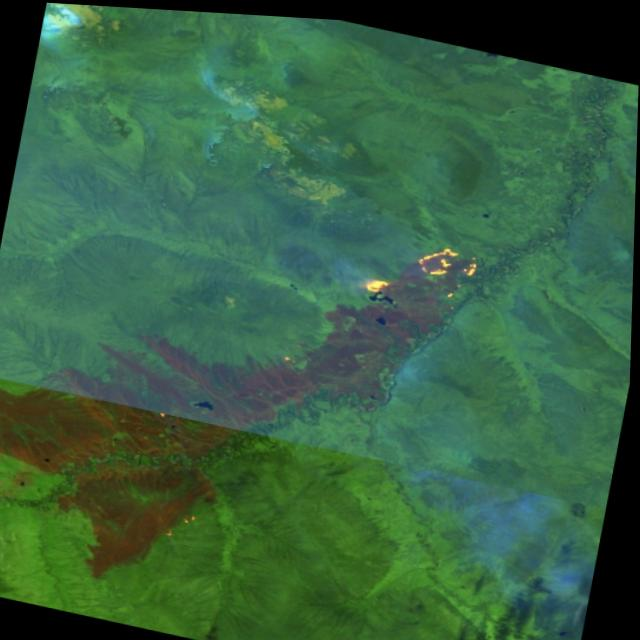fire: (413, 231, 489, 283), (356, 263, 398, 297)
